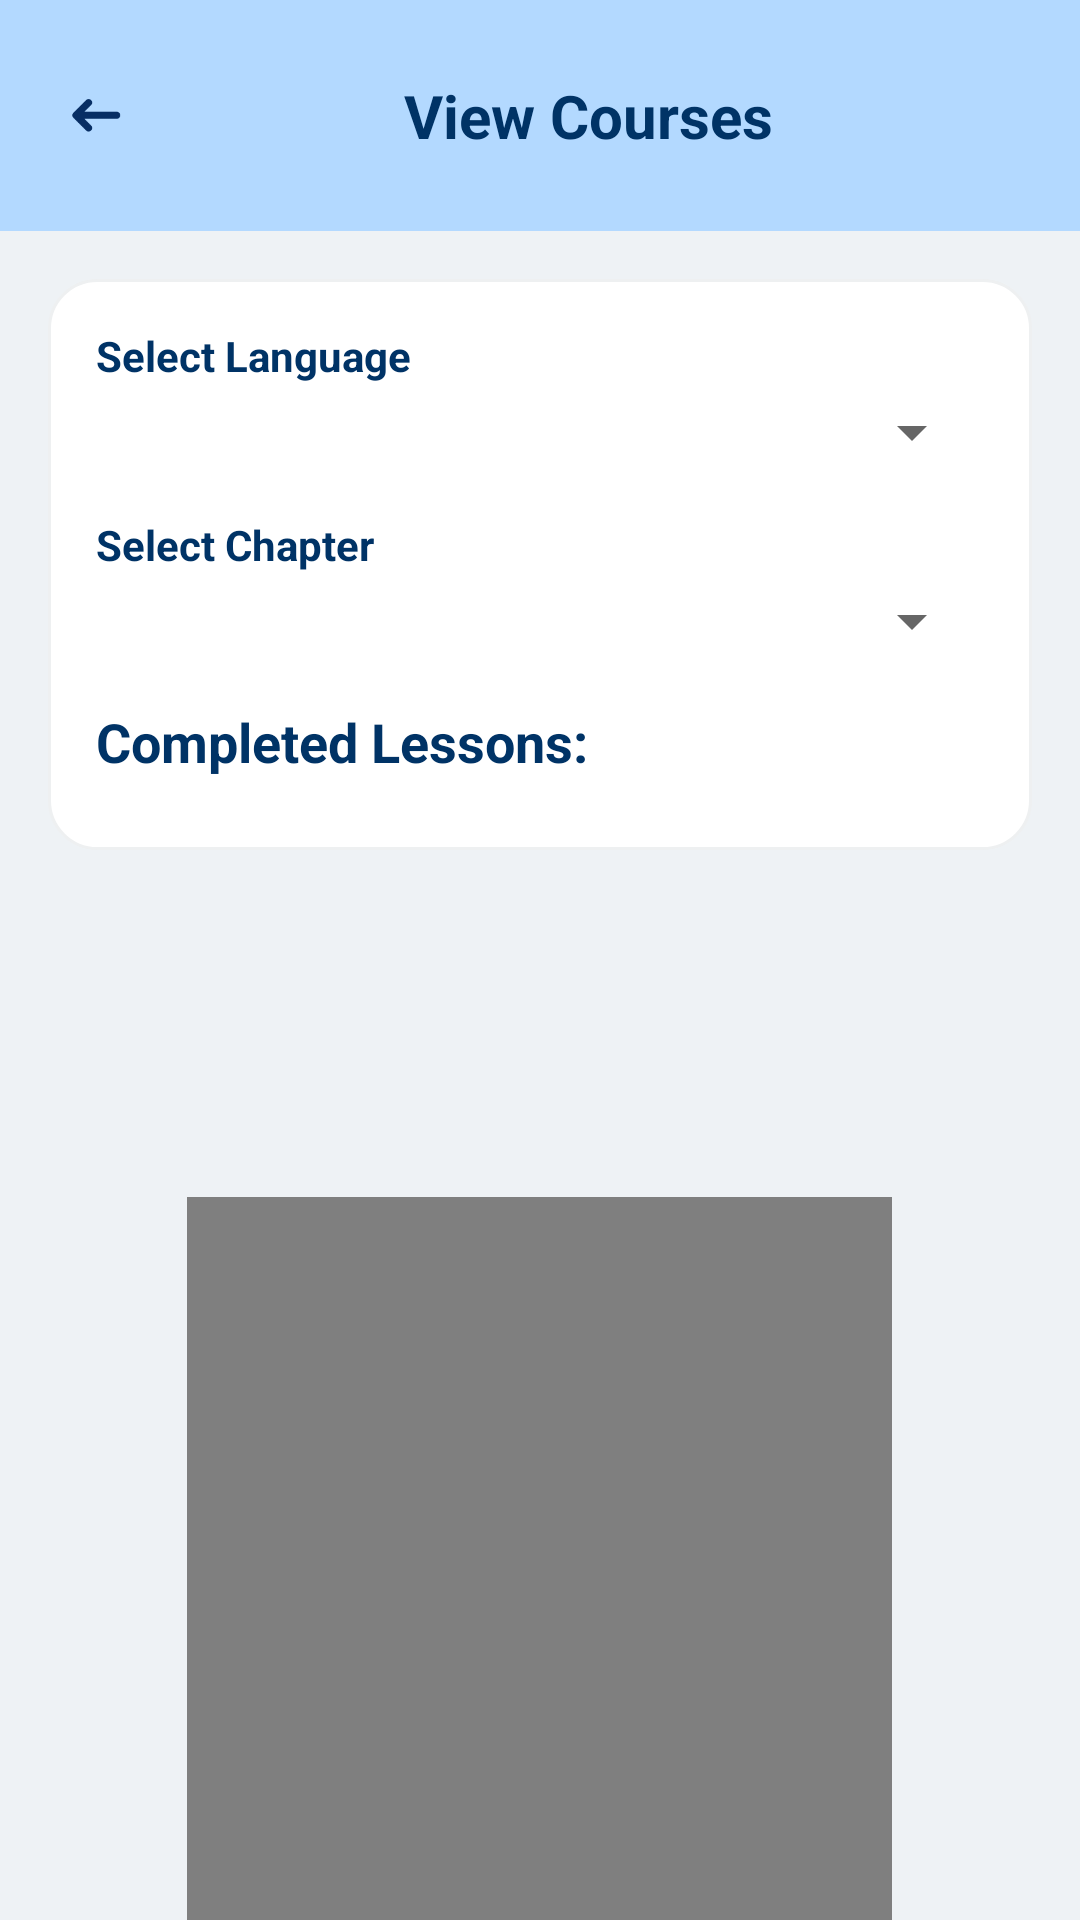

Icon click points for this 1080w x 1920h phone screenshot, format [x,y]:
Back: [96,115]
